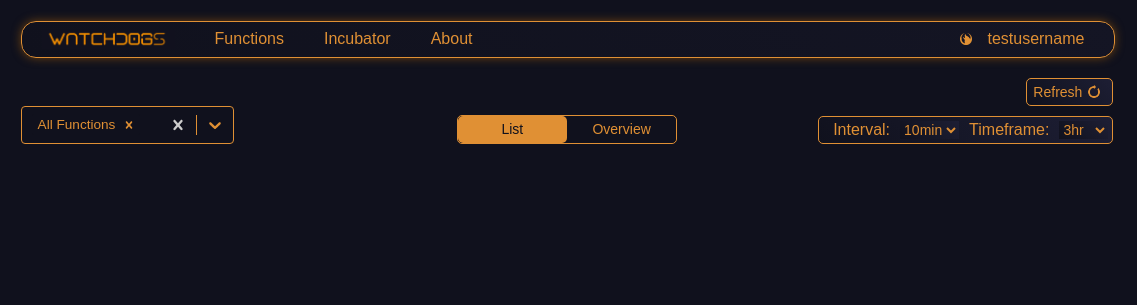
it: React Component Testing › Home Page › User Info › Renders a User Info container
Step 1. Click the link "testusername" → point(1015, 39), box 945,26 -> 1084,53
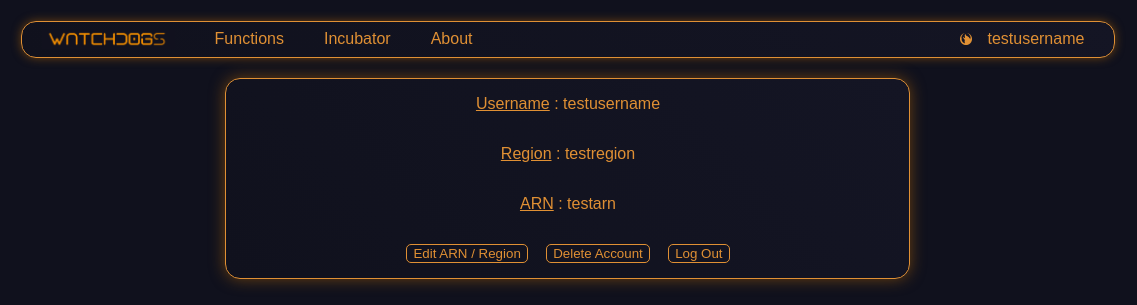
Check: the element with id "user-info" is shown, box 226,78 -> 910,278
